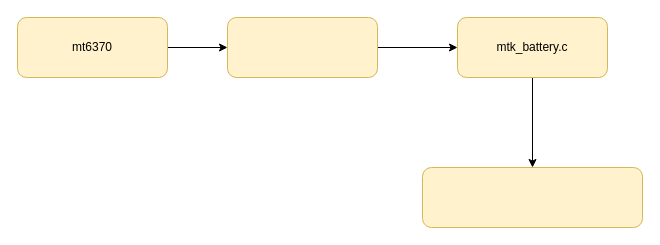
The diagram is 660 pixels wide and 245 high, and some of its shapes have lost their labels. The shapes that lost their labels are listed below. From the top down, each one's centre as x and y in pixels, then its label:
(302,47): power_supply_changed
(532,197): mtk_battery_external_power_changed
